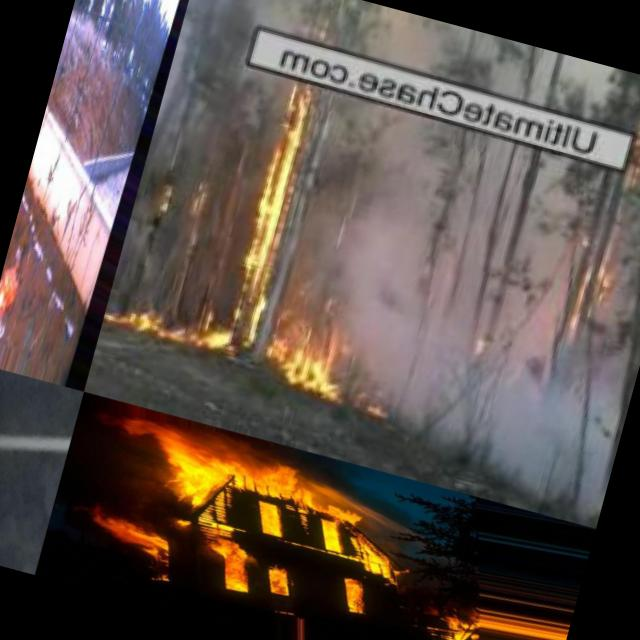fire: (212, 90, 335, 354), (150, 434, 364, 544), (264, 312, 392, 410), (104, 287, 211, 358), (81, 505, 179, 564), (200, 534, 264, 601), (343, 536, 412, 586), (0, 253, 28, 331), (330, 568, 372, 620), (259, 561, 295, 602)
smoke: (357, 278, 640, 475), (278, 96, 466, 348)
